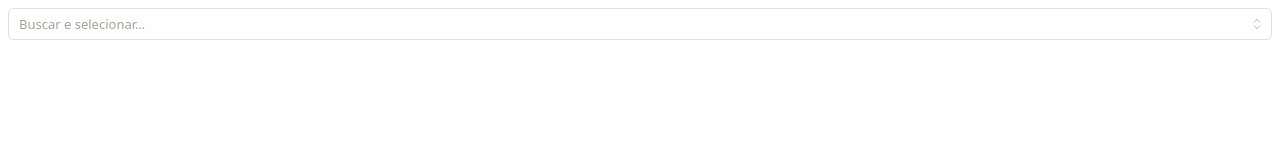
Test: Combobox › não quebra quando a busca encolhe a lista abaixo do índice ativo
Press ArrowDown in the dropdown, box [8,8,1272,40]
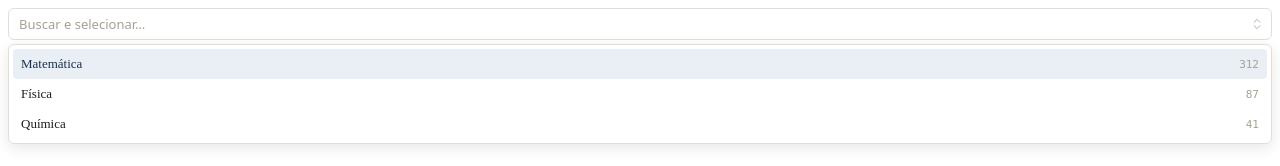
Press ArrowDown in the dropdown, box [8,8,1272,40]
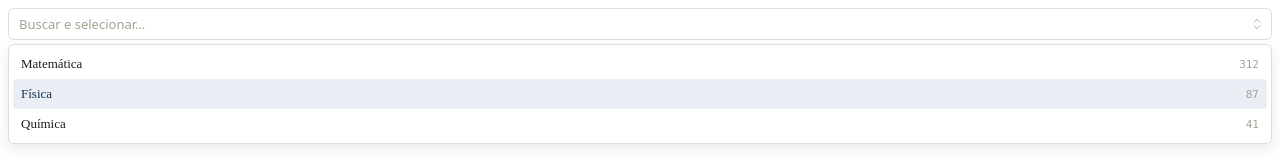
Press ArrowDown in the dropdown, box [8,8,1272,40]
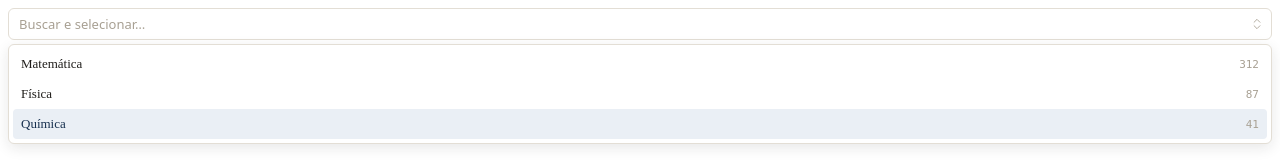
Type "quimica" into the dropdown.
click(640, 24); type("quimica")  # box [8,8,1272,40]
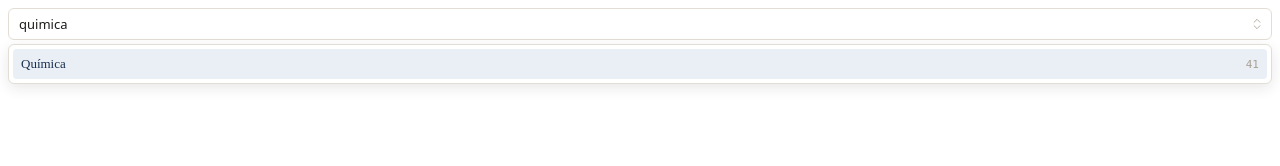
Expected: the number of options is 1, [13,49,1267,79]
